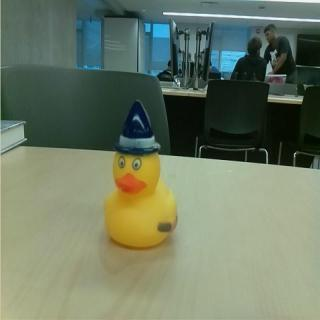duck_specialty: (103, 99, 180, 250)
